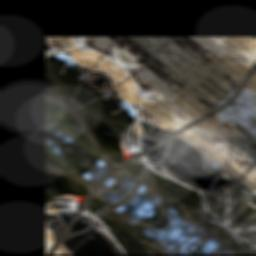Woodpecker: (101, 106, 256, 233)
